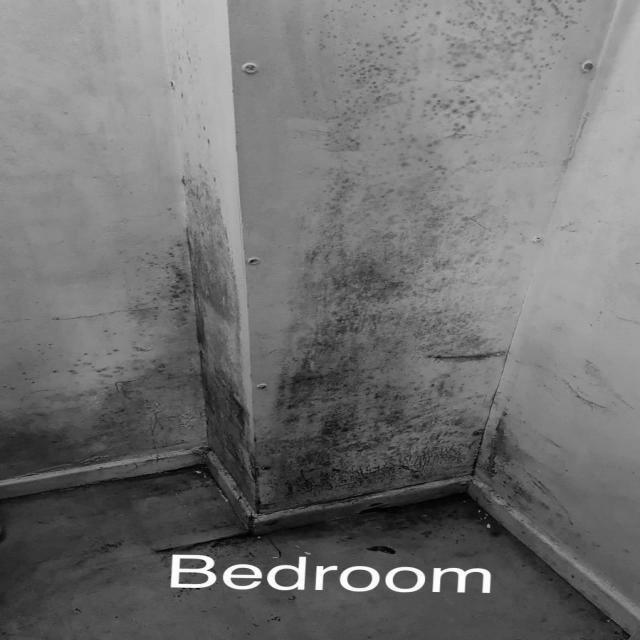stain marks: (262, 184, 478, 521), (263, 0, 596, 188), (0, 1, 147, 289), (0, 289, 149, 486), (155, 166, 238, 486), (479, 190, 586, 400), (480, 399, 586, 556), (587, 192, 640, 416), (142, 22, 224, 162)
